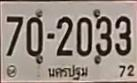0: (76, 16, 92, 56), (26, 17, 42, 57)
2: (56, 16, 72, 56)
3: (95, 16, 112, 56), (115, 15, 131, 55)
7: (6, 16, 23, 56)
NPT: (46, 61, 89, 82)
